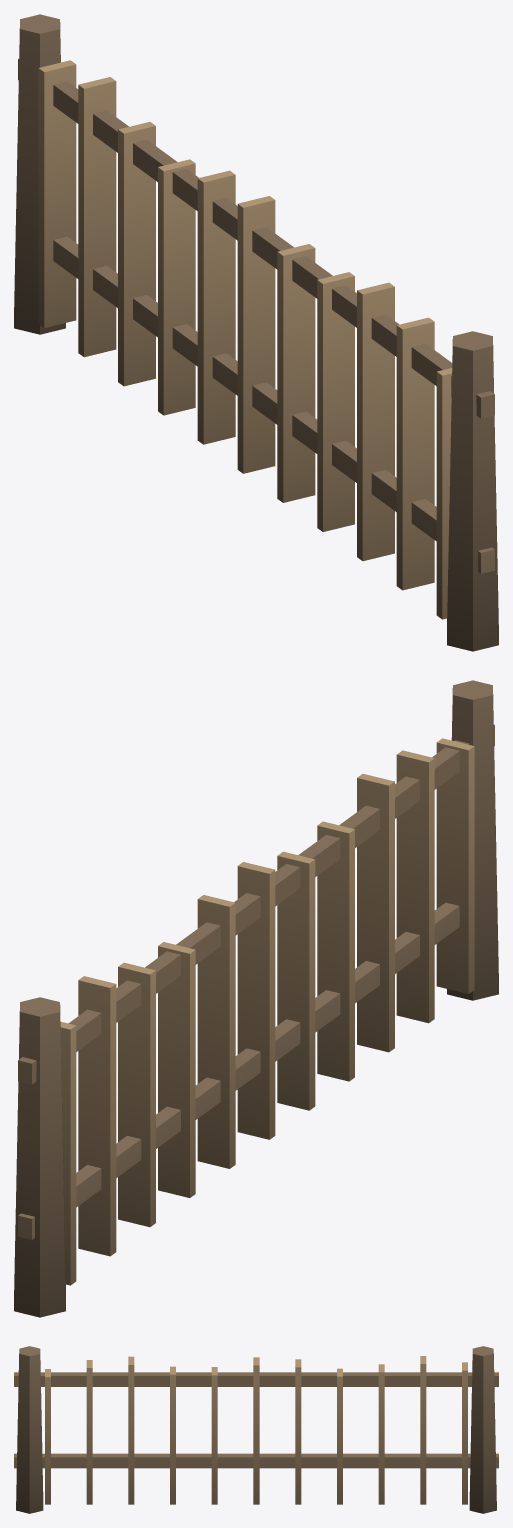
File: berk_fence_4m.glb
3 renders of one model, top to bottom at view 1: azimuth 30°, elevation 25°; view 2: azimuth 150°, elevation 25°; view 3: azimuth 270°, elevation 25°, orthographic. The views are drawn at different scales.
Visible parts, largest first — view 1: berk_fence_4m; view 2: berk_fence_4m; view 3: berk_fence_4m.
Part boxes in pixels (box(x1,y1,x2,y2)): berk_fence_4m: box(14, 14, 498, 651); berk_fence_4m: box(14, 680, 498, 1317); berk_fence_4m: box(14, 1346, 498, 1513).
Size of the model in its own units: 0.26 by 1.42 by 4.
